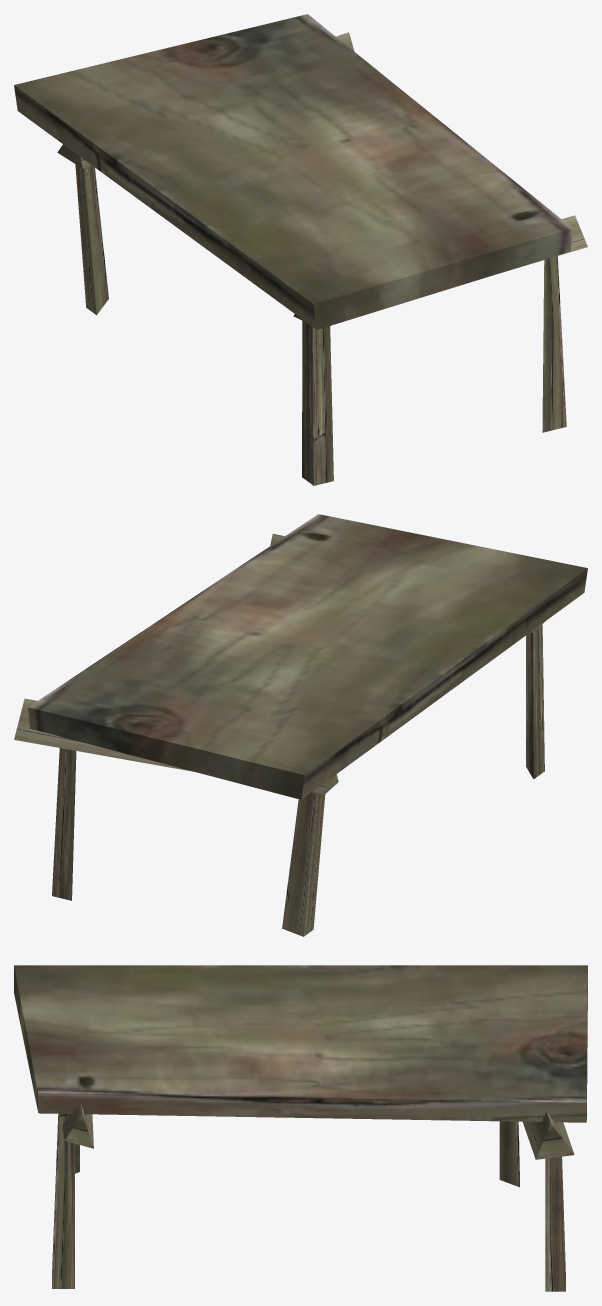
File: table_shanty_2.fbx
3 views of the same model, one above another, from view 1: azimuth 30°, elevation 25°; view 2: azimuth 150°, elevation 25°; view 3: azimuth 270°, elevation 25° (orthographic). The views are drawn at different scales.
Visible parts, largest first — view 1: Table_Top, legs8, legs7, legs9; view 2: Table_Top, legs9, legs10, legs8, legs5; view 3: Table_Top, legs7, legs10, legs5, legs9, legs1.
Part boxes in pixels (box(x1,y1,x2,y2)): Table_Top: box(14, 14, 572, 329); legs8: box(302, 321, 333, 485); legs7: box(542, 255, 566, 432); legs9: box(75, 164, 108, 315); Table_Top: box(28, 514, 587, 799); legs9: box(282, 792, 325, 936); legs10: box(52, 748, 76, 900); legs8: box(526, 624, 544, 779); legs5: box(14, 698, 338, 794); Table_Top: box(14, 965, 587, 1122); legs7: box(52, 1113, 74, 1288); legs10: box(545, 1156, 565, 1291); legs5: box(523, 1111, 574, 1159); legs9: box(499, 1121, 519, 1187); legs1: box(62, 1103, 93, 1148).
Size of the model in its own units: 487 by 300 by 790.
Materials: 1 (1 with a texture image).
